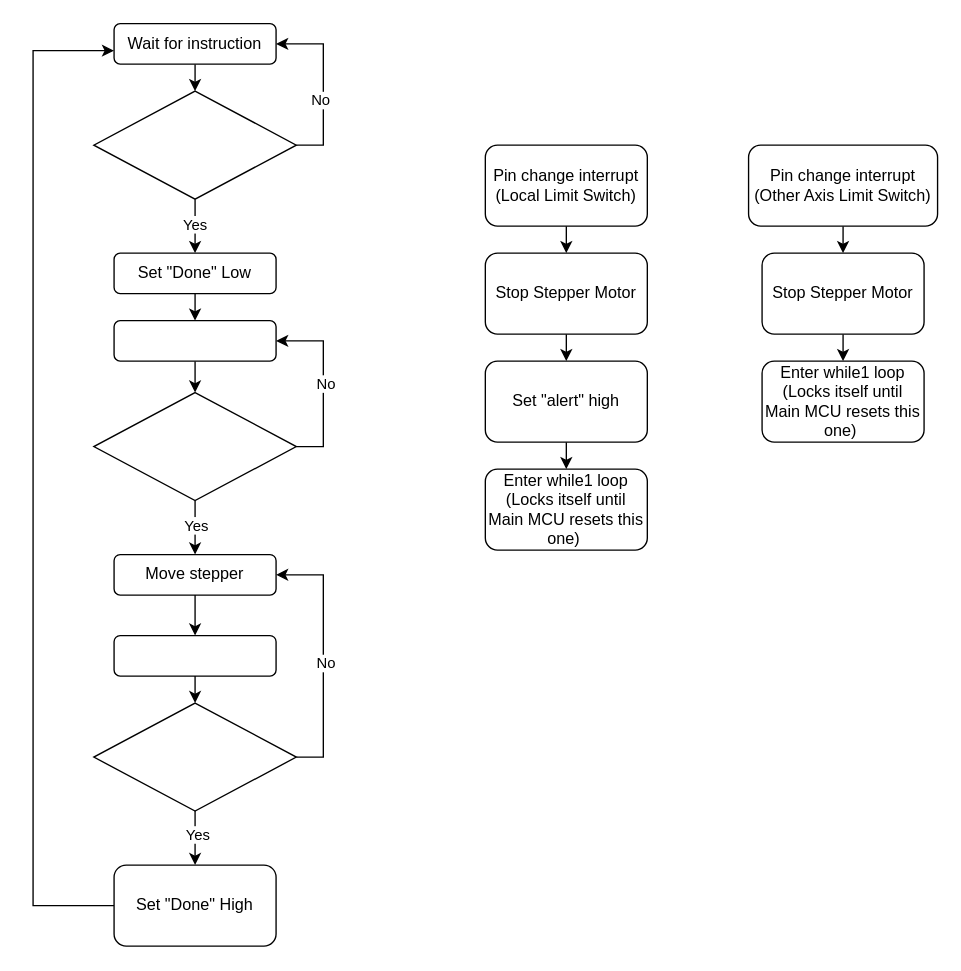
Image size: 961x971. Some labels were removed from this diagram. The shapes that lost their labels are listed below. From the top down, each one's box as (x1, y1, x2, y2) in pixels, then its label:
(92, 90, 296, 199): instruction received?
(113, 319, 276, 361): Check "Sync"
(92, 391, 296, 501): "Sync" is High
(113, 634, 276, 676): Check encoder
(92, 702, 296, 811): Desired position?
